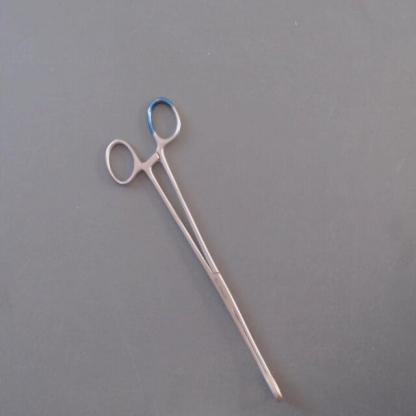Sponge Forceps: (98, 87, 291, 410)
